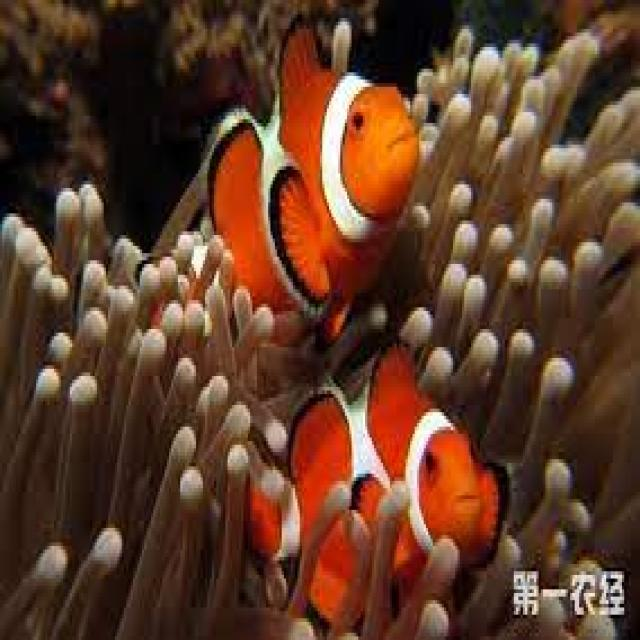ClownFish: (140, 21, 420, 348), (242, 358, 502, 632)
